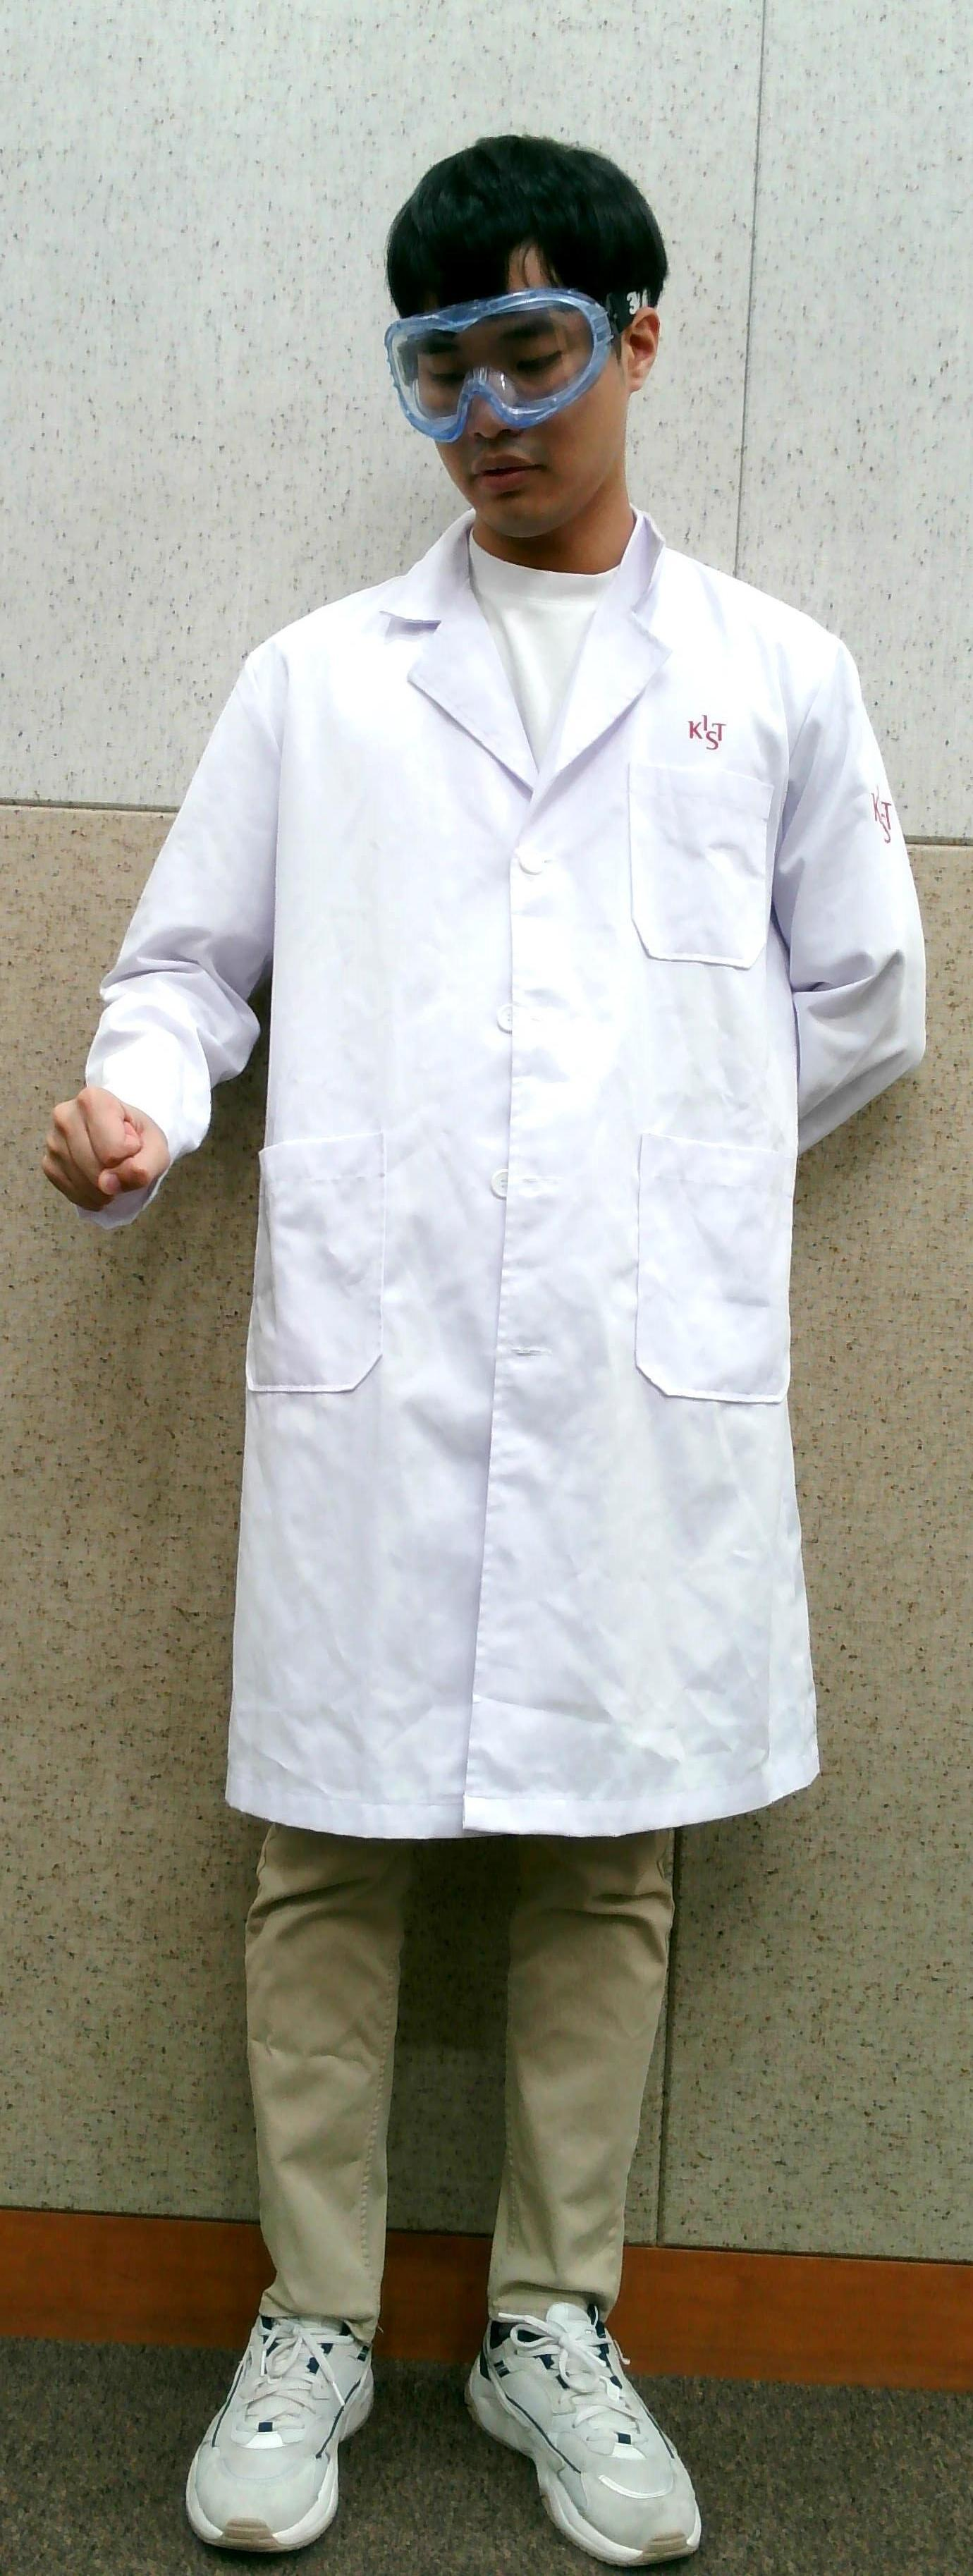lab_coat: (214, 651, 827, 1799)
